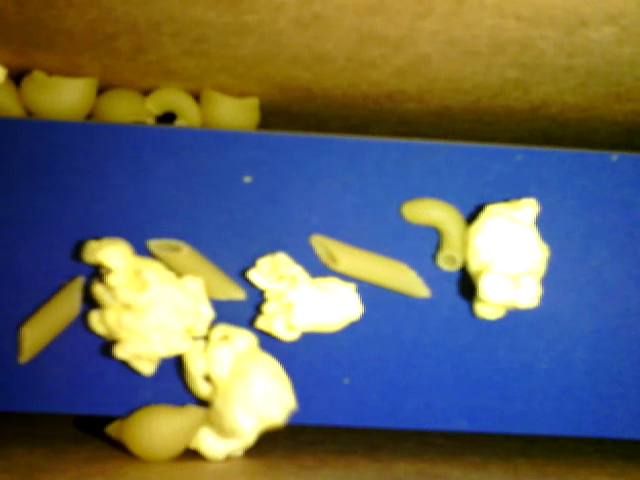elbow: (399, 195, 468, 272), (145, 86, 203, 130)
penne: (307, 231, 432, 301), (146, 237, 249, 301), (17, 274, 84, 363)
shell: (105, 403, 211, 464), (18, 70, 95, 120), (199, 86, 261, 130), (88, 87, 158, 125)
